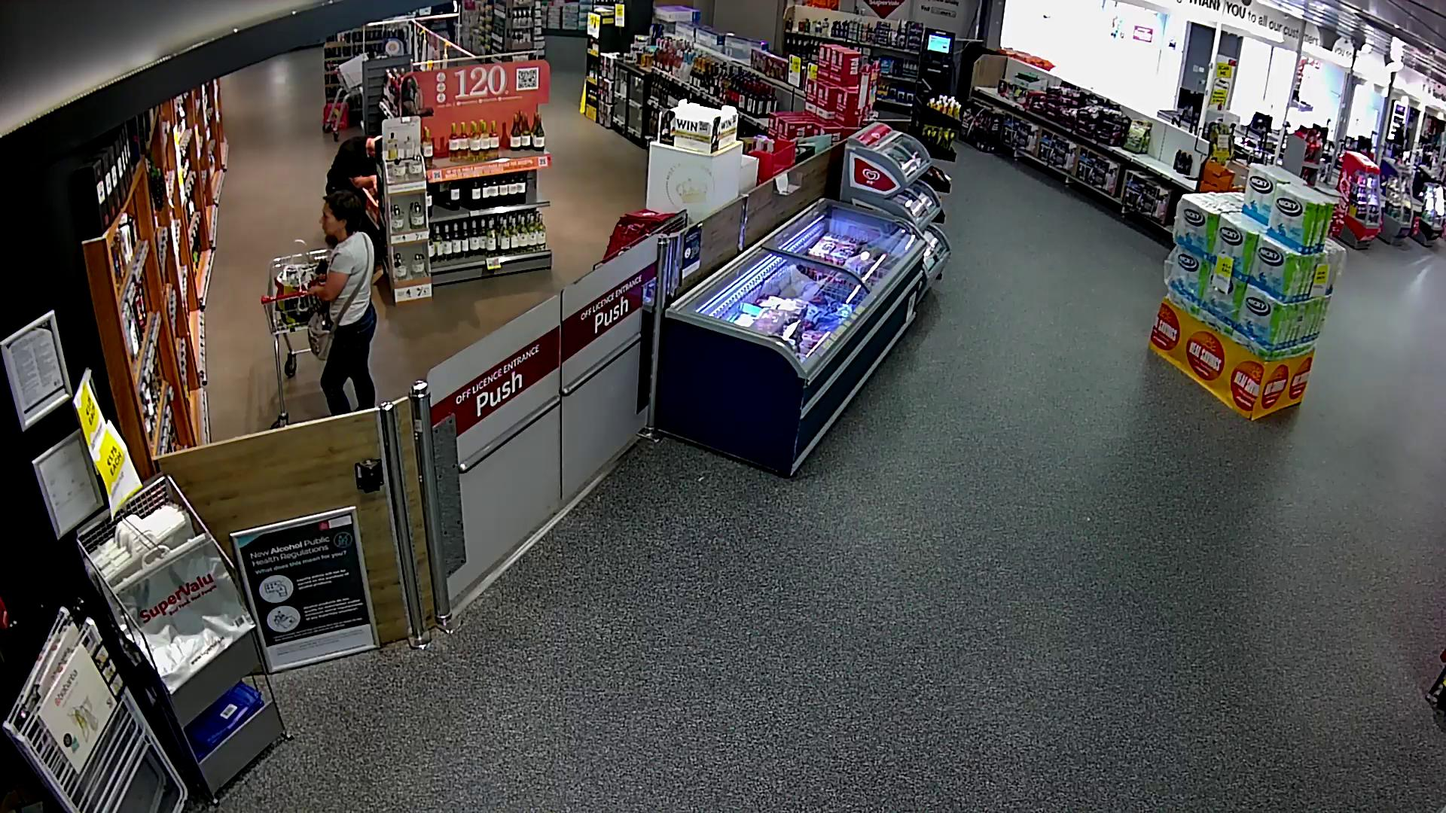backpack-or-handbag: (307, 310, 335, 362)
filled-trolly: (261, 250, 334, 429)
person: (320, 190, 377, 412)
person-with-basket-trolly-and-backpack-handbag: (261, 189, 378, 430)
